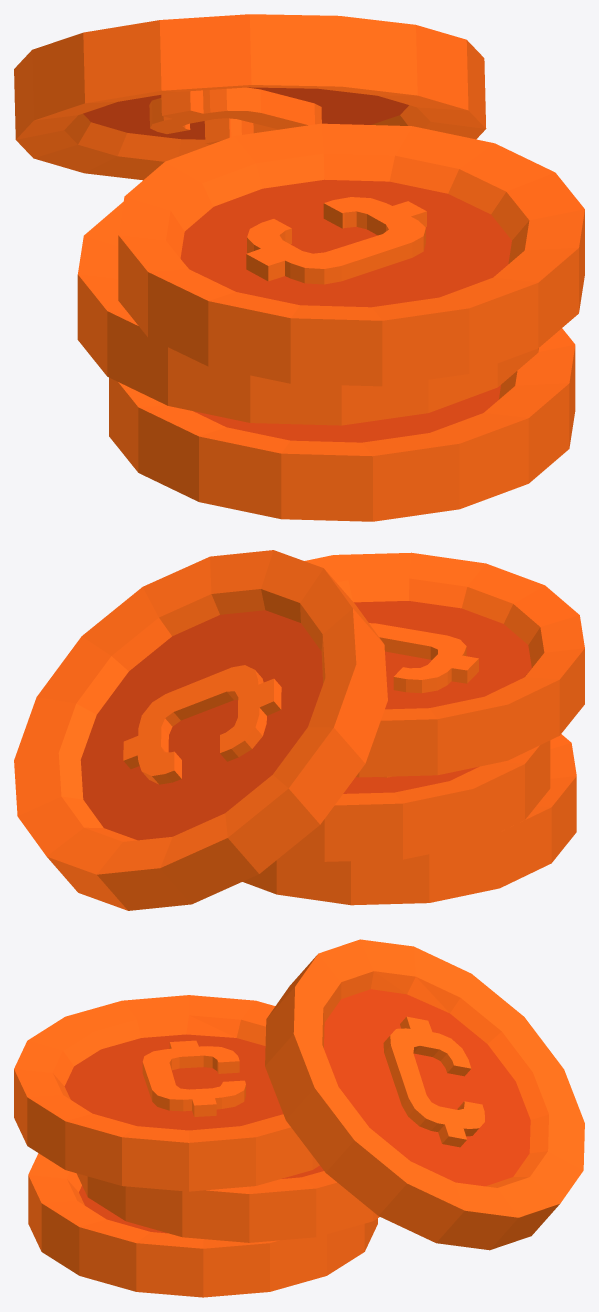
File: Coins.fbx
The picture shows the model from 3 angles, top to bottom: view 1: azimuth 30°, elevation 25°; view 2: azimuth 150°, elevation 25°; view 3: azimuth 270°, elevation 25°; orthographic projection. The views are drawn at different scales.
Parts seen in each view (by area): view 1: Cylinder_3, Cylinder, Cylinder_7, Cylinder_5, Cylinder_4, Cylinder_2; view 2: Cylinder, Cylinder_3, Cylinder_5, Cylinder_7, Cylinder_2, Cylinder_4; view 3: Cylinder, Cylinder_3, Cylinder_7, Cylinder_5, Cylinder_2, Cylinder_4.
Part boxes in pixels (box(x1,y1,x2,y2)): Cylinder_3: box(118, 123, 584, 386); Cylinder: box(14, 14, 486, 180); Cylinder_7: box(109, 328, 575, 521); Cylinder_5: box(77, 202, 538, 425); Cylinder_4: box(246, 197, 426, 284); Cylinder_2: box(149, 87, 321, 144); Cylinder: box(14, 550, 387, 910); Cylinder_3: box(304, 552, 584, 777); Cylinder_5: box(282, 740, 550, 861); Cylinder_7: box(242, 734, 576, 905); Cylinder_2: box(123, 665, 281, 784); Cylinder_4: box(369, 623, 478, 693); Cylinder: box(265, 939, 584, 1250); Cylinder_3: box(14, 995, 319, 1191); Cylinder_7: box(28, 1153, 377, 1297); Cylinder_5: box(76, 1165, 379, 1242); Cylinder_2: box(383, 1016, 484, 1147); Cylinder_4: box(142, 1040, 245, 1116).
Bounding box in the file's own units: 81.66 × 59.71 × 117.
